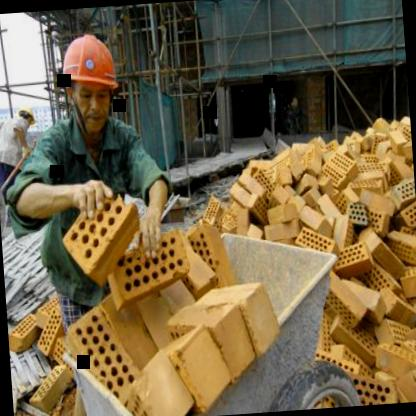helmet: (54, 27, 125, 136), (15, 101, 36, 128)
